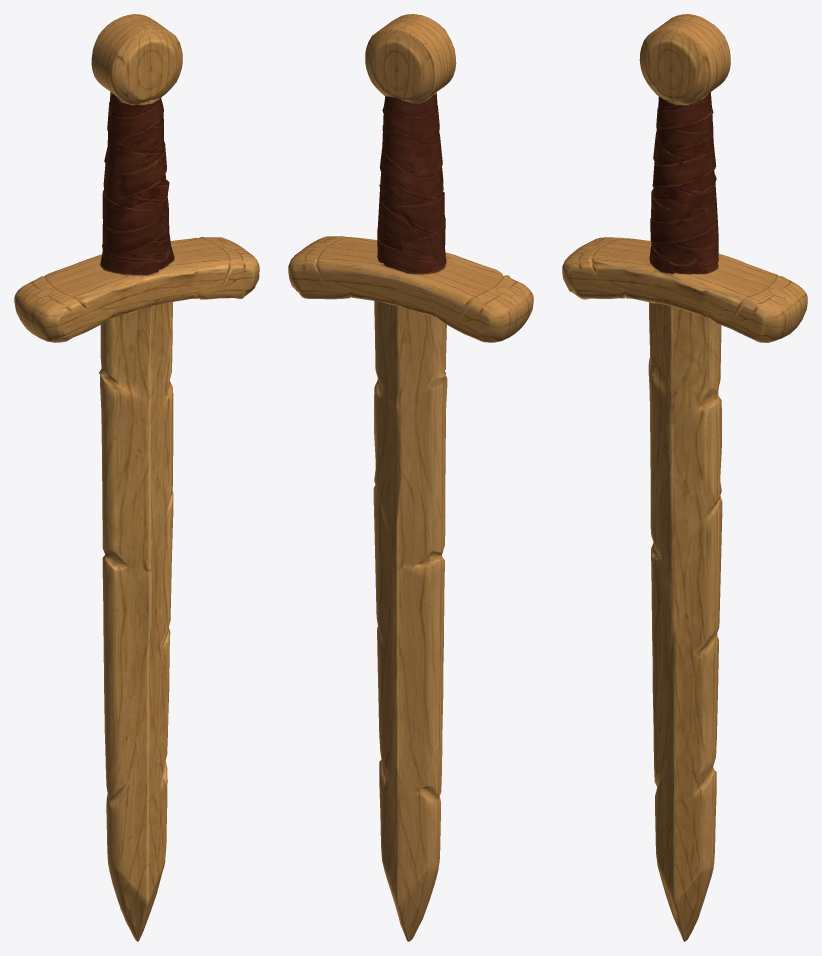
File: epee_bois.glb
3 views of the same model, side by side, from view 1: azimuth 30°, elevation 25°; view 2: azimuth 150°, elevation 25°; view 3: azimuth 330°, elevation 25° (orthographic).
Size of the model in its own units: 0.2418 by 0.9502 by 0.0732.
Materials: 1 (1 with a texture image).
